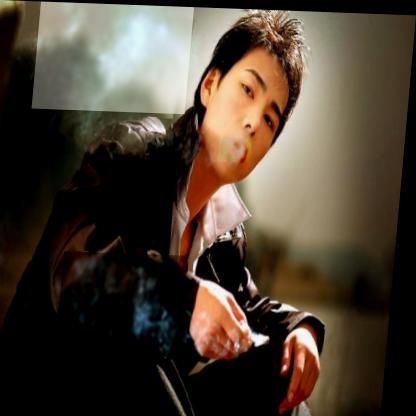smoke: (34, 1, 194, 113), (62, 250, 193, 356), (220, 136, 254, 161)
